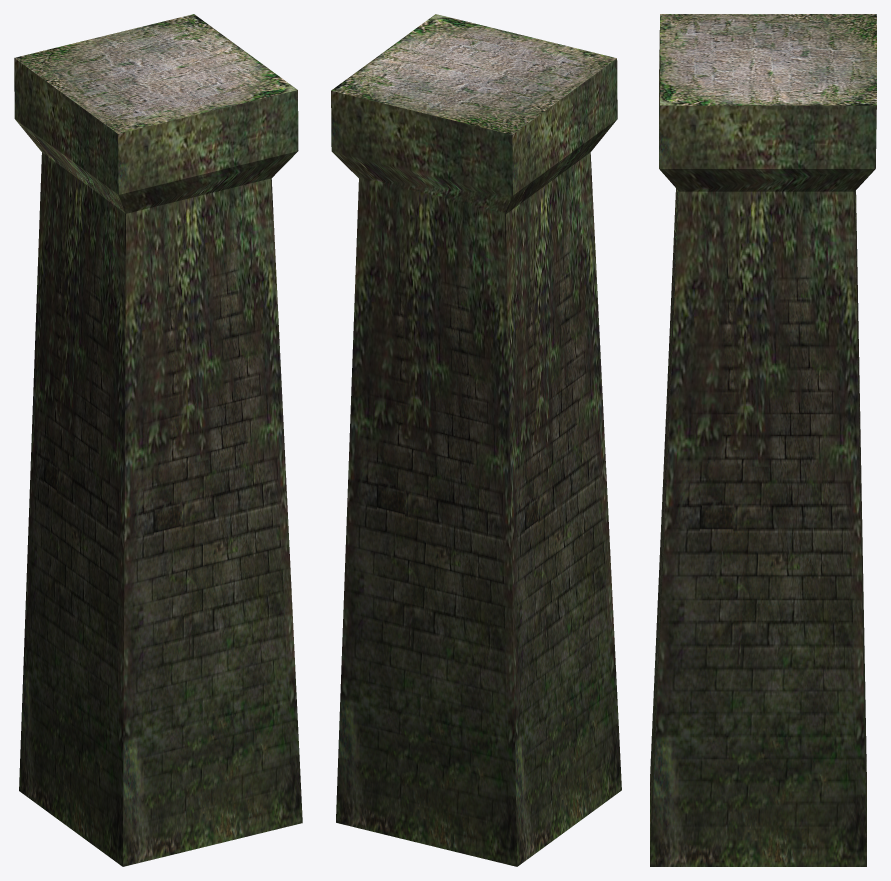
File: shizhu.FBX
3 renders of one model, left to right at view 1: azimuth 30°, elevation 25°; view 2: azimuth 150°, elevation 25°; view 3: azimuth 270°, elevation 25°, orthographic. The views are drawn at different scales.
Parts seen in each view (by area): view 1: Box20; view 2: Box20; view 3: Box20.
Boxes of the visible parts, bbox=[...] form: Box20: bbox=[14, 14, 302, 866]; Box20: bbox=[331, 14, 621, 866]; Box20: bbox=[650, 14, 876, 866].
Size of the model in its own units: 80 by 310 by 83.69.
